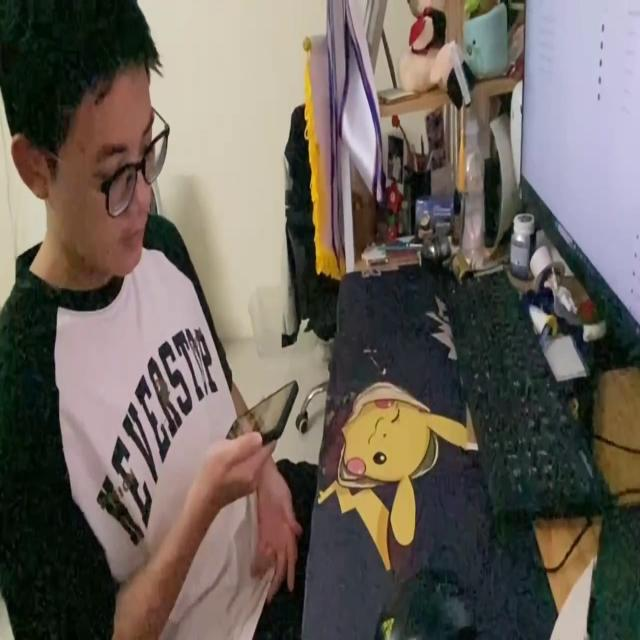laptop: (515, 0, 640, 369)
phone: (222, 378, 298, 448)
student: (0, 0, 310, 640)
